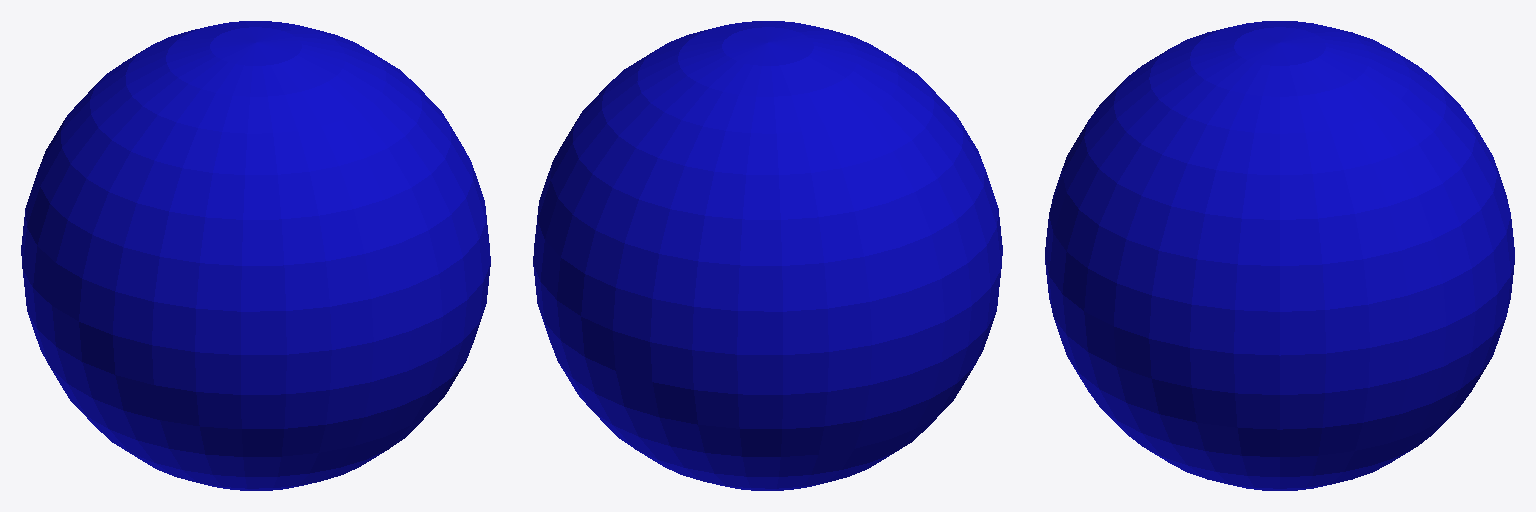
The model's file is exp_full_task.obj.
3 renders of one model, left to right at view 1: azimuth 30°, elevation 25°; view 2: azimuth 150°, elevation 25°; view 3: azimuth 270°, elevation 25°, orthographic.
Parts seen in each view (by area): view 1: Sphere.002; view 2: Sphere.002; view 3: Sphere.002.
Boxes of the visible parts, x1,y1,x2,y2 form: Sphere.002: [21, 21, 490, 490]; Sphere.002: [533, 21, 1002, 490]; Sphere.002: [1045, 21, 1514, 490].
Size of the model in its own units: 2 by 2 by 2.